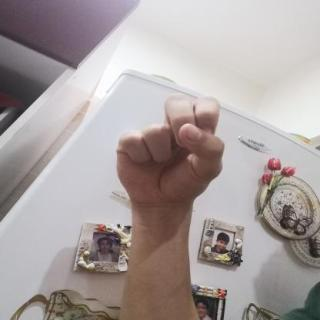QAAF: (98, 84, 240, 216)
